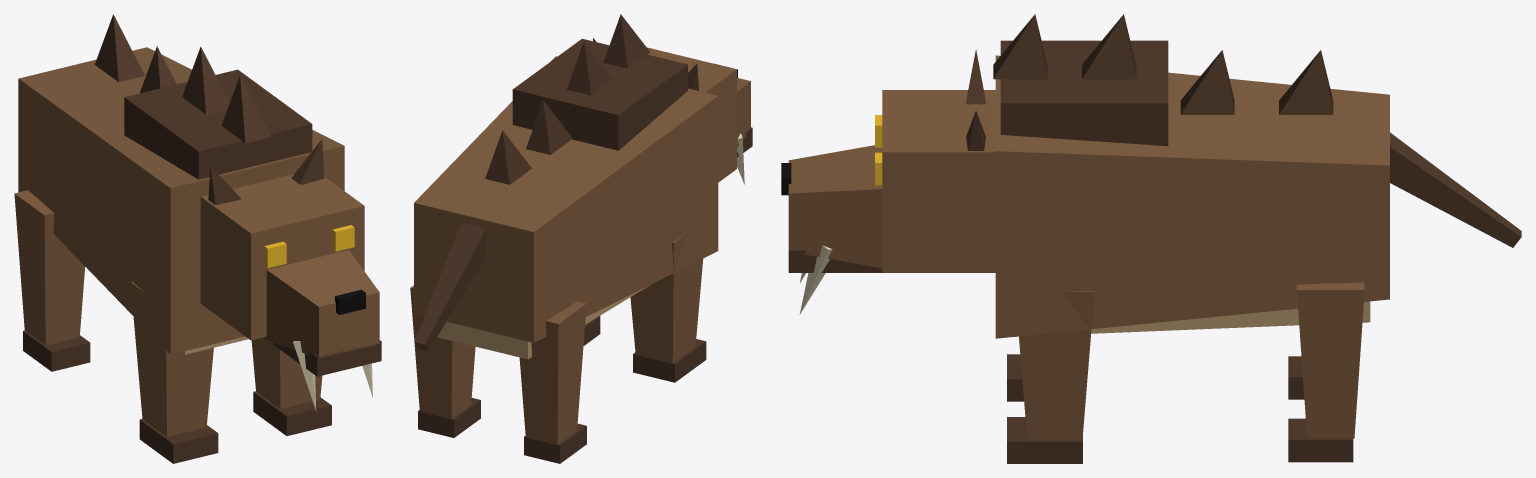
File: Monster.obj
3 renders of one model, left to right at view 1: azimuth 30°, elevation 25°; view 2: azimuth 150°, elevation 25°; view 3: azimuth 270°, elevation 25°, orthographic. The views are drawn at different scales.
Parts seen in each view (by area): view 1: Body, Head, LegBL, LegFL, LegFR; view 2: Body, LegBL, LegFL, LegBR, Head, Tail; view 3: Body, Head, LegBR, LegFR, Tail, LegFL.
Part boxes in pixels (x1,y1,x2,y2): Body: [18, 14, 344, 354]; Head: [200, 139, 381, 411]; LegBL: [14, 190, 90, 371]; LegFL: [130, 281, 218, 463]; LegFR: [251, 337, 331, 435]; Body: [414, 14, 718, 359]; LegBL: [519, 301, 586, 463]; LegFL: [630, 233, 706, 382]; LegBR: [410, 285, 480, 437]; Head: [593, 38, 752, 184]; Tail: [414, 222, 486, 350]; Body: [993, 14, 1389, 338]; Head: [781, 49, 995, 314]; LegBR: [1288, 282, 1364, 462]; LegFR: [1007, 291, 1094, 463]; Tail: [1390, 132, 1521, 247]; LegFL: [1007, 354, 1023, 401].
Bounding box in the file's own units: 0.46 × 0.91 × 1.5.
